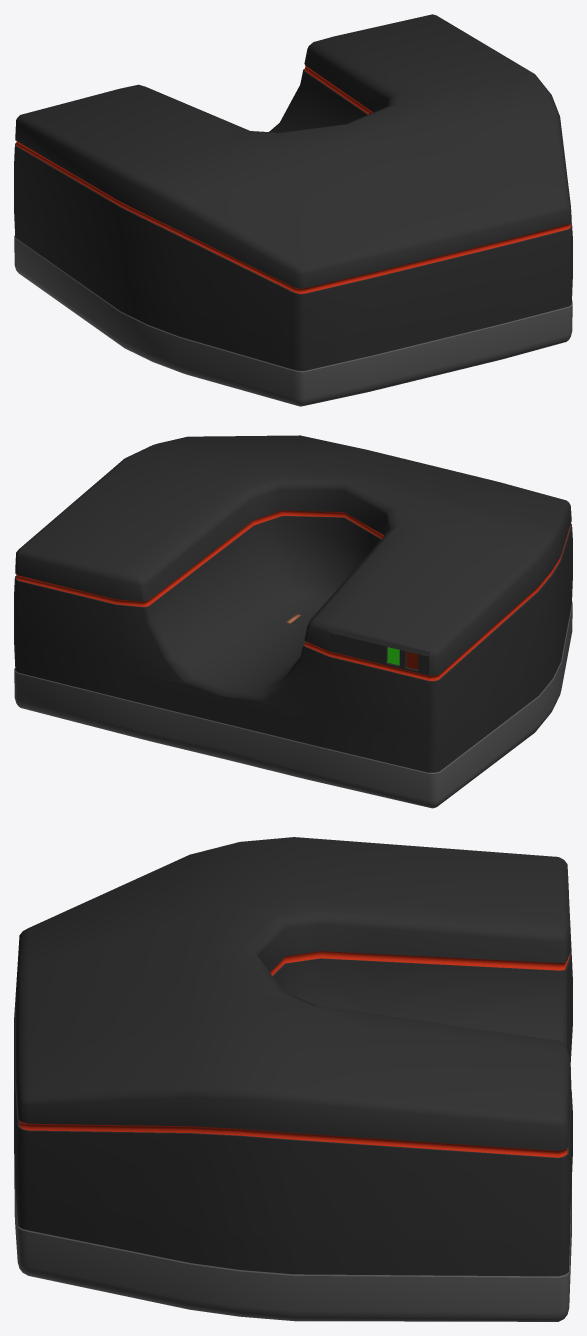
File: hand_scanner_charger.glb
3 views of the same model, one above another, from view 1: azimuth 30°, elevation 25°; view 2: azimuth 150°, elevation 25°; view 3: azimuth 270°, elevation 25° (orthographic). The views are drawn at different scales.
Visible parts, largest first — view 1: hand_scanner_charger; view 2: hand_scanner_charger; view 3: hand_scanner_charger.
Part boxes in pixels (x1,y1,x2,y2): hand_scanner_charger: [14, 14, 572, 406]; hand_scanner_charger: [14, 435, 572, 808]; hand_scanner_charger: [14, 837, 572, 1321].
Size of the model in its own units: 0.2286 by 0.0987 by 0.2011.
Materials: 1 (1 with a texture image).
